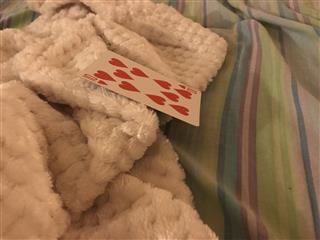TenOfHearts: (78, 49, 202, 127)
